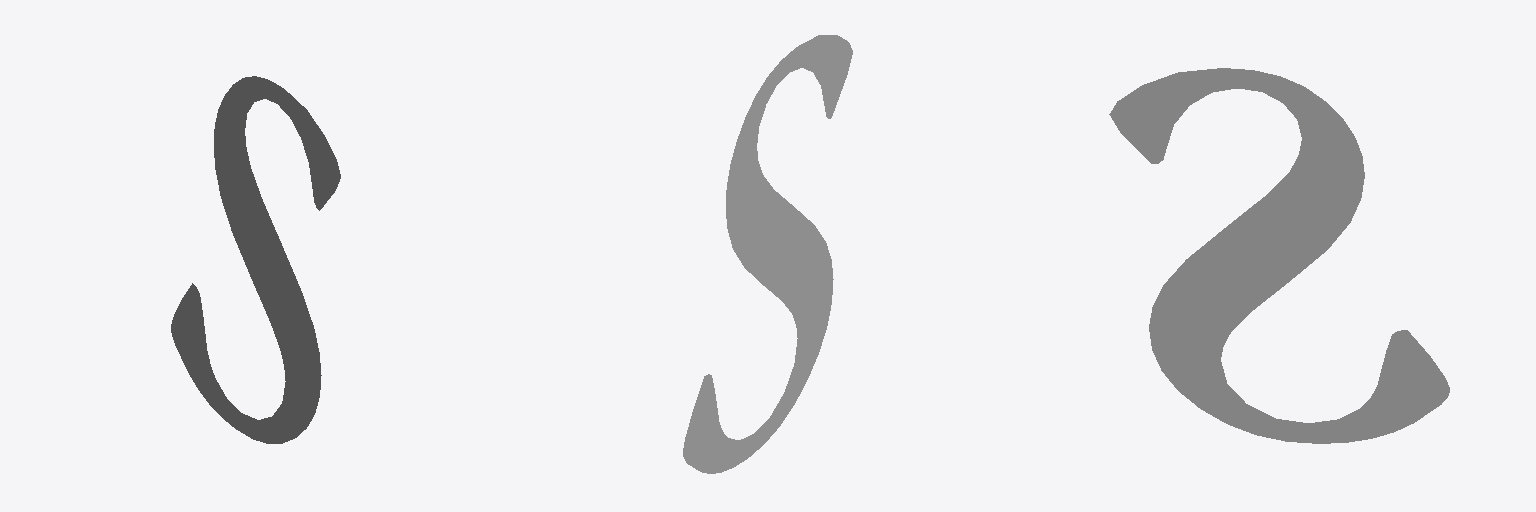
File: original-55.obj
3 views of the same model, side by side, from view 1: azimuth 30°, elevation 25°; view 2: azimuth 150°, elevation 25°; view 3: azimuth 270°, elevation 25° (orthographic).
Visible parts, largest first — view 1: mesh12/mesh12-geometry/material_5/component_2#mesh12-geometry; view 2: mesh12/mesh12-geometry/material_5/component_2#mesh12-geometry; view 3: mesh12/mesh12-geometry/material_5/component_2#mesh12-geometry.
Part boxes in pixels (bbox=[...]): mesh12/mesh12-geometry/material_5/component_2#mesh12-geometry: bbox=[171, 76, 340, 443]; mesh12/mesh12-geometry/material_5/component_2#mesh12-geometry: bbox=[683, 35, 852, 473]; mesh12/mesh12-geometry/material_5/component_2#mesh12-geometry: bbox=[1109, 68, 1449, 443].
Bounding box in the file's own units: 0 × 0.0649 × 0.0533.